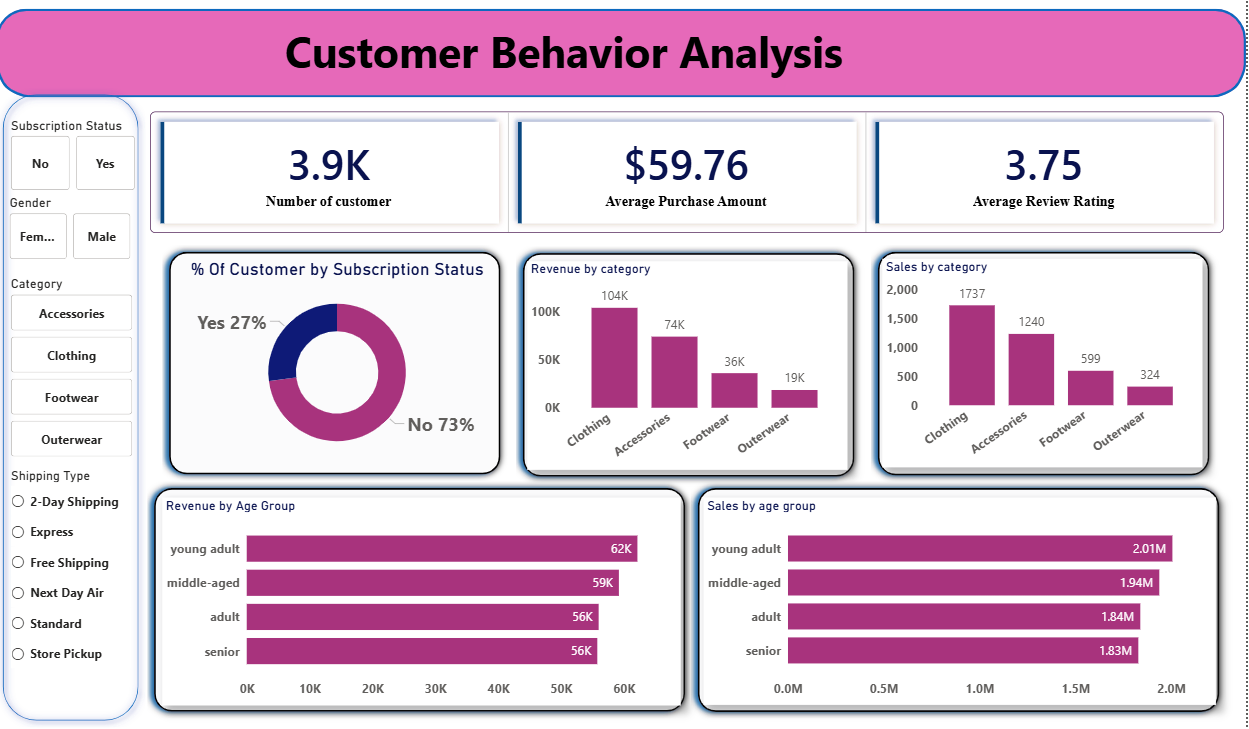

What the dashboard file says about the page in this screenshot:
{"tool":"powerbi","page":{"name":"Page 1","canvas":[1555,969],"ordinal":0},"visuals":[{"type":"cardVisual","fields":{"Data":["customer_behaviour mytable.number_of_customer","customer_behaviour mytable.average_purchase_amount","customer_behaviour mytable.average_review_rating"]},"box":[195,128.3,1360,193.3],"z":0},{"type":"shape","box":[0,11.5,1555.2,116.8],"z":1000},{"type":"textbox","box":[171.2,23,1148.7,92.2],"z":2000},{"type":"shape","box":[197.5,320.9,452.6,311],"z":3000},{"type":"donutChart","title":"% Of Customer by Subscription Status","fields":{"Category":["customer_behaviour mytable.subscription_status"],"Y":["Count(customer_behaviour mytable.customer_id)"]},"box":[194.2,340.7,446,273.2],"z":4000},{"type":"shape","box":[650.1,320.9,452.6,311],"z":5000},{"type":"shape","box":[1102.6,320.9,452.6,311],"z":6000},{"type":"clusteredColumnChart","title":"Revenue by category","fields":{"Category":["customer_behaviour mytable.category"],"Y":["Sum(customer_behaviour mytable.purchase_amount)"]},"box":[665,340,420,273.3],"z":7000},{"type":"clusteredColumnChart","title":"Sales by category","fields":{"Category":["customer_behaviour mytable.category"],"Y":["CountNonNull(customer_behaviour mytable.customer_id)"]},"box":[1118.3,340,420,273.3],"z":8000},{"type":"shape","box":[0,115.2,195.8,839.3],"z":9000},{"type":"advancedSlicerVisual","title":"Subscription Status","fields":{"Values":["customer_behaviour mytable.subscription_status"]},"box":[14.8,154.7,172.8,100.4],"z":10000},{"type":"advancedSlicerVisual","title":"Gender","fields":{"Values":["customer_behaviour mytable.gender"]},"box":[13.2,255.1,181,90.5],"z":11000},{"type":"advancedSlicerVisual","title":"Category","fields":{"Values":["customer_behaviour mytable.category"]},"box":[14.8,362.1,169.5,243.6],"z":12000},{"type":"listSlicer","title":"Shipping Type","fields":{"Values":["customer_behaviour mytable.shipping_type"]},"box":[14.8,613.9,167.9,355.5],"z":13000},{"type":"shape","box":[199.1,632,714.2,311],"z":13001},{"type":"clusteredBarChart","title":"Revenue by Age Group","fields":{"Category":["customer_behaviour mytable.age_group"],"Y":["Sum(customer_behaviour mytable.purchase_amount)"]},"box":[217.2,651.7,679.7,273.2],"z":13002},{"type":"shape","box":[911.7,632,641.8,311],"z":13003},{"type":"clusteredBarChart","title":"Sales by age group","fields":{"Category":["customer_behaviour mytable.age_group"],"Y":["Sum(customer_behaviour mytable.customer_id)"]},"box":[928.2,651.7,607.3,273.2],"z":13004}]}

Visuals, with their boxes in screenshot pixels (x1, y1, x2, y2):
cardVisual - customer_behaviour mytable.number_of_customer x customer_behaviour mytable.average_purchase_amount: (163, 95, 1208, 244)
shape: (13, 6, 1209, 95)
textbox: (145, 14, 1028, 85)
shape: (165, 243, 513, 483)
"% Of Customer by Subscription Status" donutChart: (162, 259, 505, 469)
shape: (513, 243, 861, 483)
shape: (861, 243, 1209, 483)
"Revenue by category" clusteredColumnChart: (524, 258, 847, 468)
"Sales by category" clusteredColumnChart: (873, 258, 1196, 468)
shape: (13, 85, 164, 728)
"Subscription Status" advancedSlicerVisual: (24, 116, 157, 193)
"Gender" advancedSlicerVisual: (23, 193, 162, 262)
"Category" advancedSlicerVisual: (24, 275, 155, 462)
"Shipping Type" listSlicer: (24, 469, 153, 728)
shape: (166, 483, 715, 722)
"Revenue by Age Group" clusteredBarChart: (180, 498, 703, 708)
shape: (714, 483, 1207, 722)
"Sales by age group" clusteredBarChart: (727, 498, 1193, 708)
